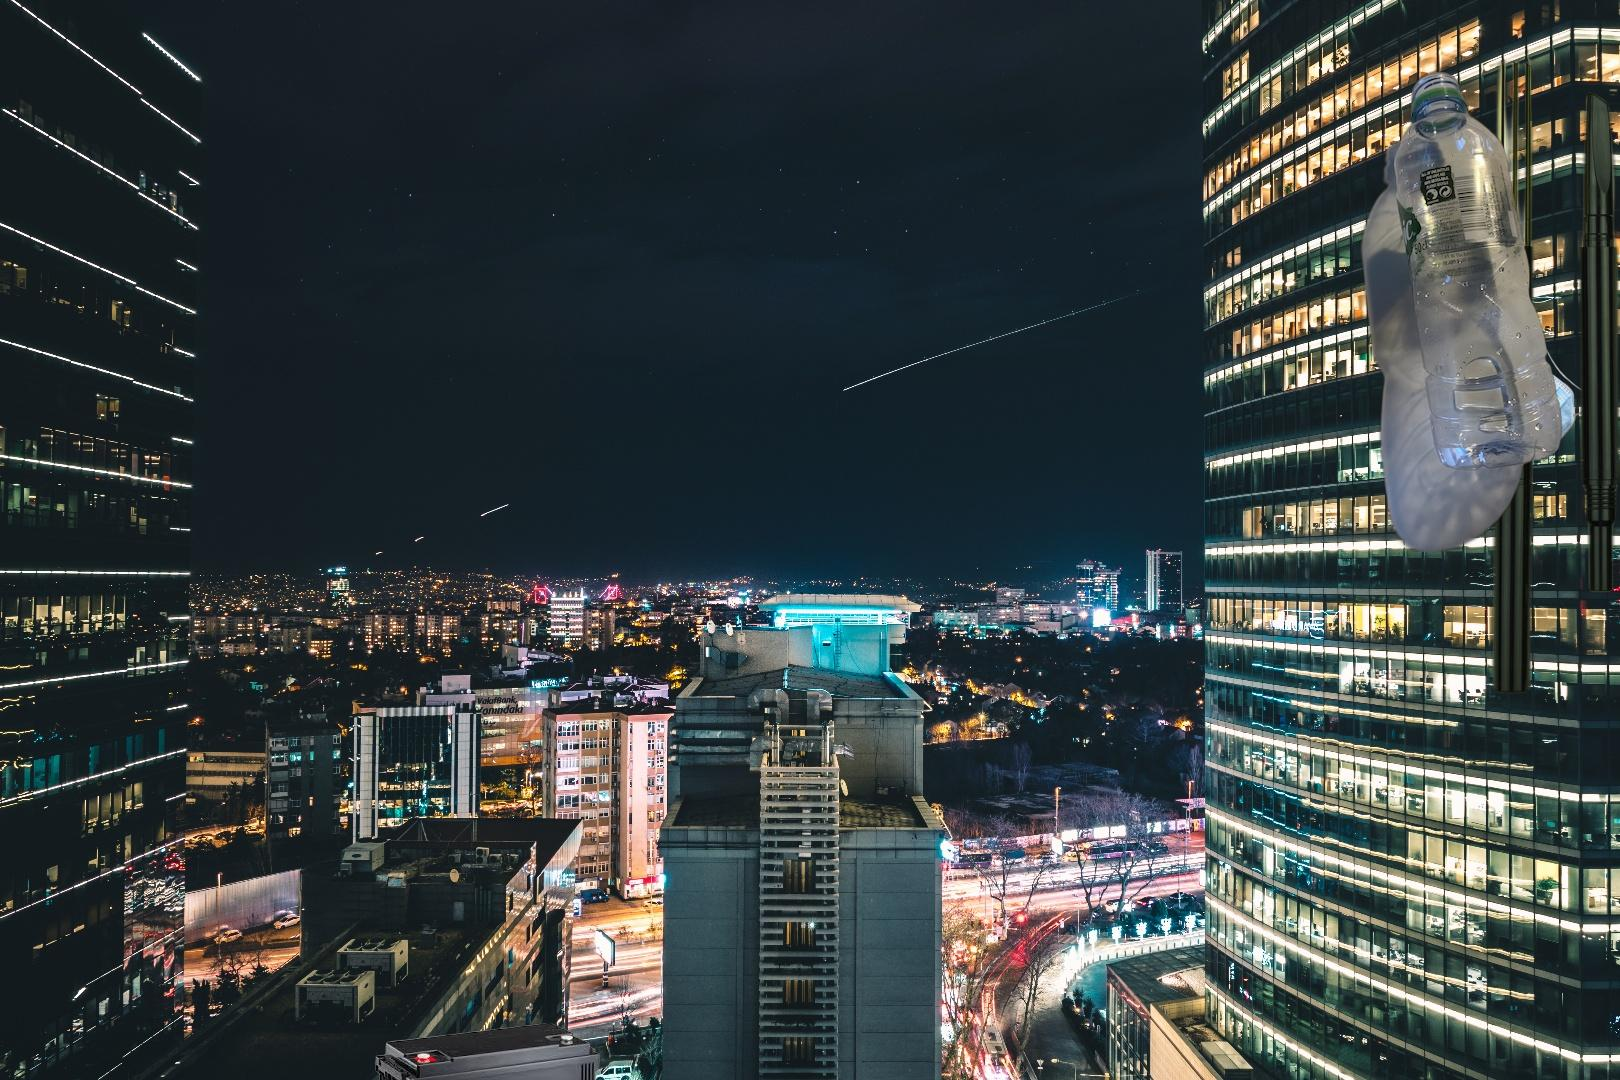battery: (375, 1020, 600, 1080)
penholder: (1485, 43, 1620, 708)
plastic-bottles: (1357, 67, 1565, 552)
trash: (1380, 322, 1597, 482)
